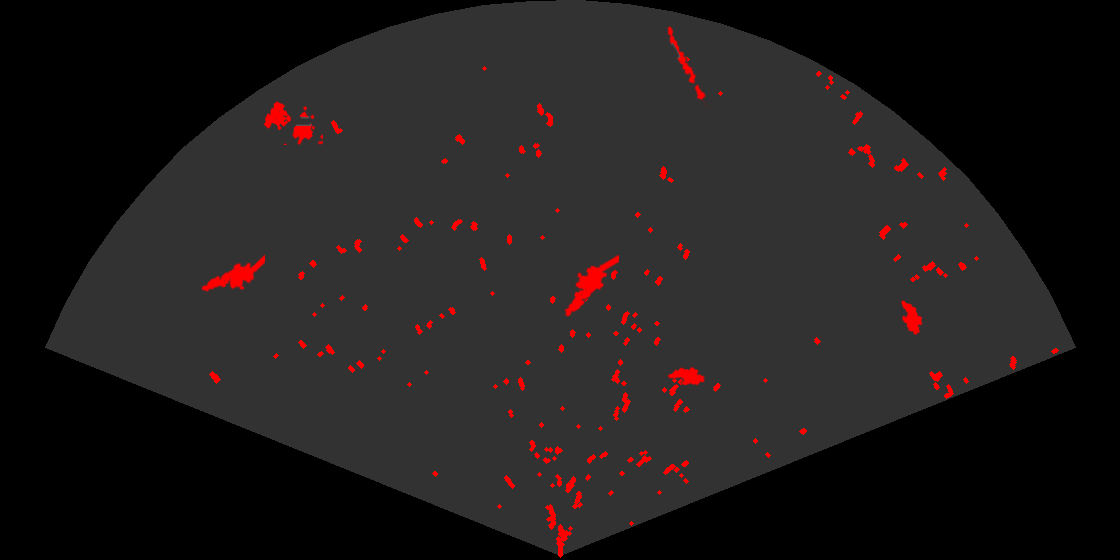AUV: (899, 298, 924, 337), (666, 365, 707, 387)
cage: (262, 100, 323, 145)
chain: (666, 25, 709, 107)
frogman: (563, 255, 619, 318), (200, 253, 265, 293)
